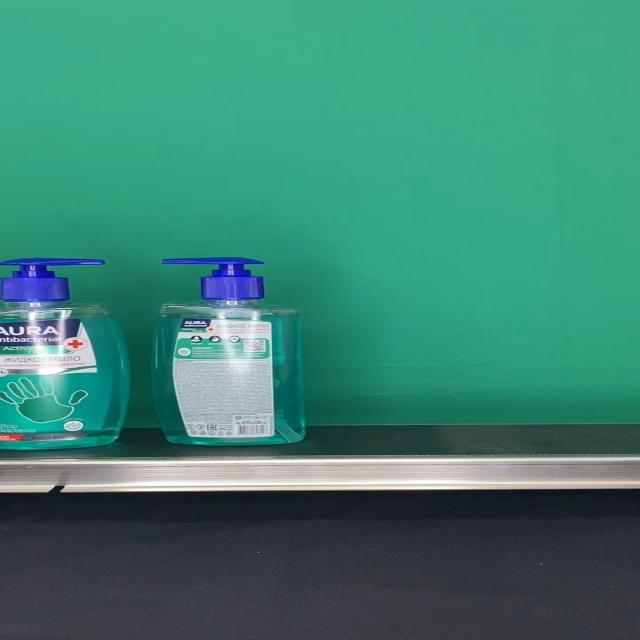Bottle: (151, 257, 307, 446), (0, 259, 131, 450)
Cap: (0, 258, 105, 301), (160, 257, 264, 299)
